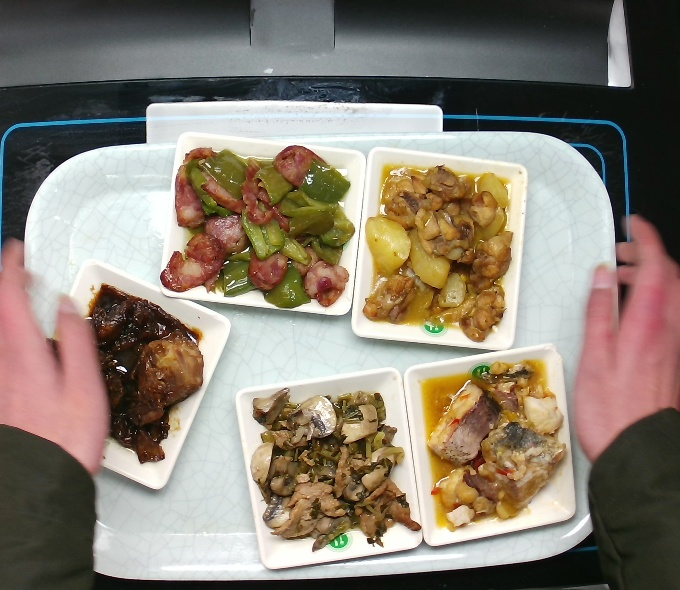wcq-MoGuRouPian: (248, 386, 424, 552)
wcq-QingJiaoXiangChang: (159, 146, 357, 308)
wcq-SuanCaiYu: (420, 356, 565, 532)
wcq-TuDouJiKuai: (360, 161, 514, 344)
